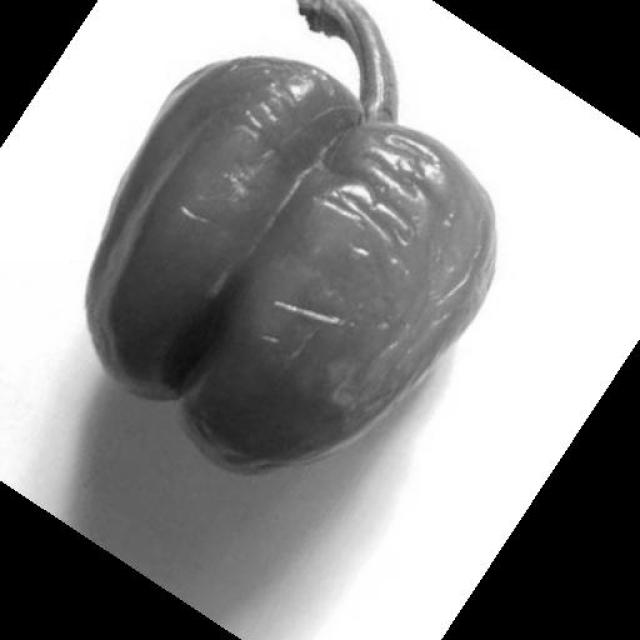Stale_Capsicum: (101, 6, 512, 415)
